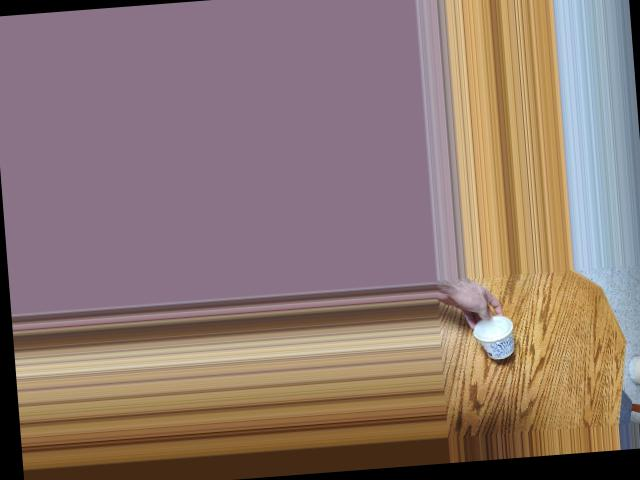cotage: (465, 310, 515, 363)
